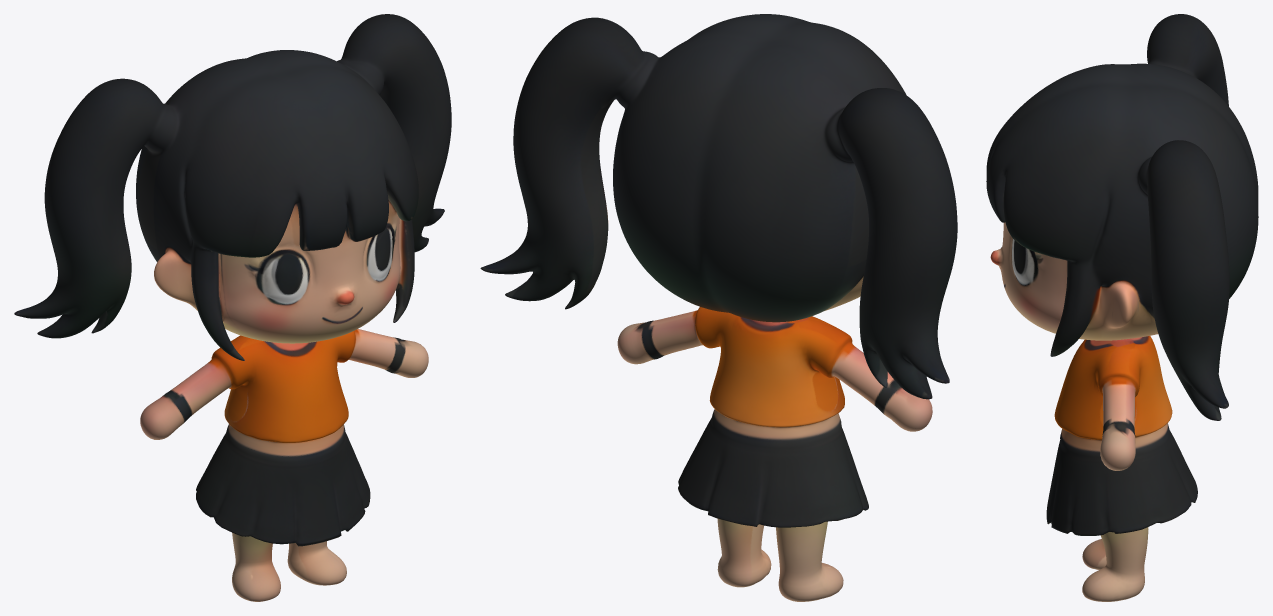
The model's file is raw.glb.
3 views of the same model, side by side, from view 1: azimuth 30°, elevation 25°; view 2: azimuth 150°, elevation 25°; view 3: azimuth 270°, elevation 25° (orthographic). The views are drawn at different scales.
Parts seen in each view (by area): view 1: model; view 2: model; view 3: model.
Boxes of the visible parts, x1=… form: model: x1=14, y1=14, x2=451, y2=601; model: x1=480, y1=14, x2=957, y2=601; model: x1=986, y1=14, x2=1258, y2=601.
Size of the model in its own units: 1.68 by 1.9 by 0.9403.
Materials: 1 (1 with a texture image).
